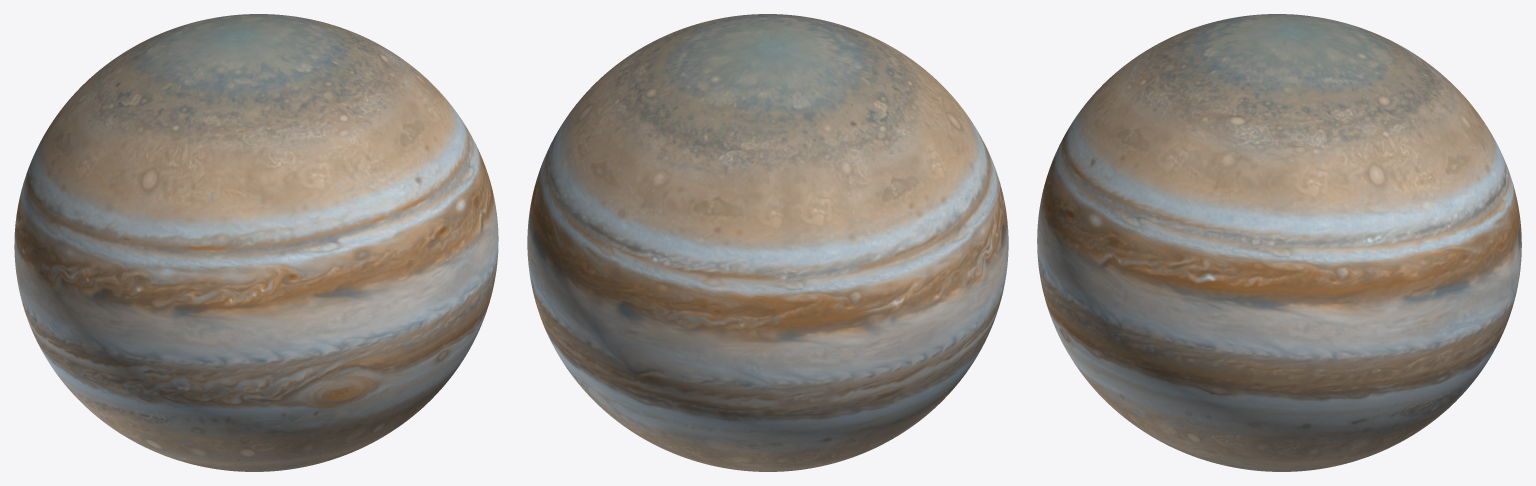
Rendered from jupiter.glb.
3 views of the same model, side by side, from view 1: azimuth 30°, elevation 25°; view 2: azimuth 150°, elevation 25°; view 3: azimuth 270°, elevation 25° (orthographic).
Visible parts, largest first — view 1: Jupiter; view 2: Jupiter; view 3: Jupiter.
Part boxes in pixels (bbox=[...]): Jupiter: bbox=[14, 14, 498, 471]; Jupiter: bbox=[527, 14, 1008, 471]; Jupiter: bbox=[1037, 14, 1521, 471].
Size of the model in its own units: 2.8 by 2.62 by 2.8.
Materials: 1 (1 with a texture image).
